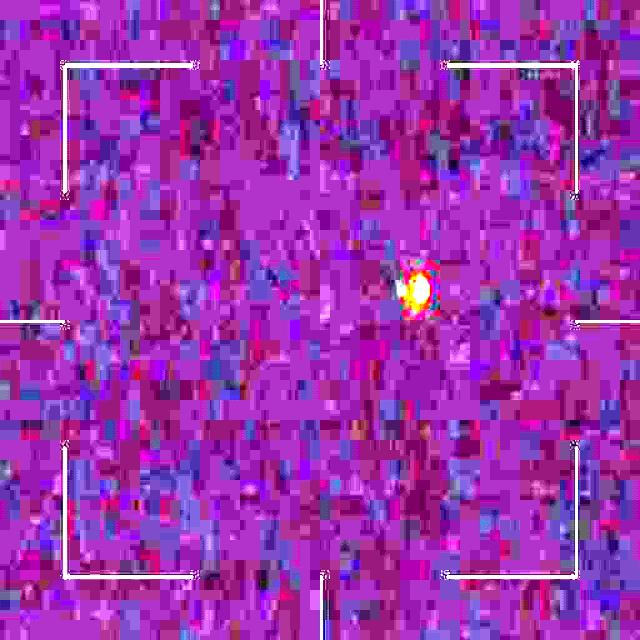bird: (396, 270, 431, 320)
